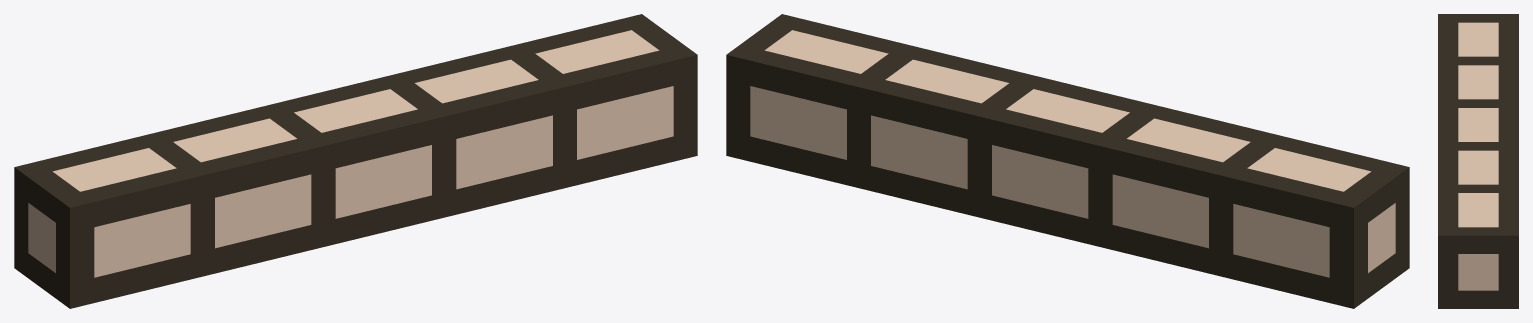
The model's file is meter_0.gltf.
3 views of the same model, side by side, from view 1: azimuth 30°, elevation 25°; view 2: azimuth 150°, elevation 25°; view 3: azimuth 270°, elevation 25° (orthographic). The views are drawn at different scales.
Bounding box in the file's own units: 2.6 × 0.4 × 0.4.
Materials: 1 (1 with a texture image).
